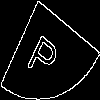P: (25, 25, 64, 83)
